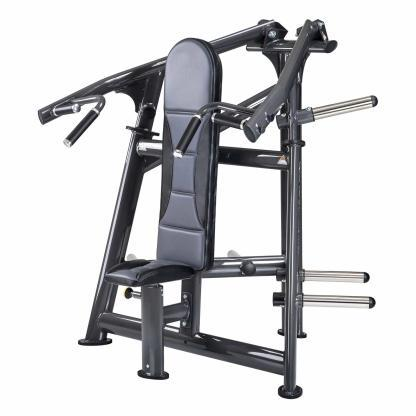shoulder press machine: (26, 10, 401, 404)
